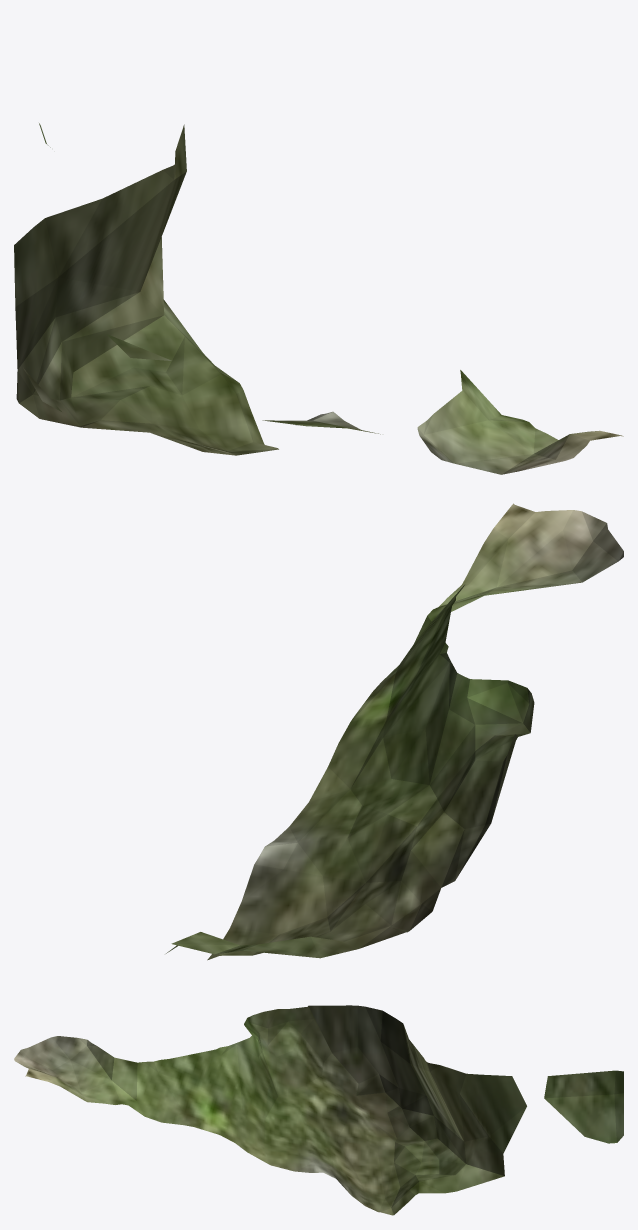
3 views of the same model, one above another, from view 1: azimuth 30°, elevation 25°; view 2: azimuth 150°, elevation 25°; view 3: azimuth 270°, elevation 25° (orthographic). The views are drawn at different scales.
Size of the model in its own units: 1.29 by 1.18 by 4.69.
1 material, 1 textured.
